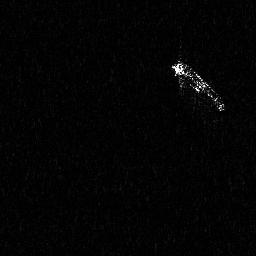ship: (170, 57, 226, 115)
